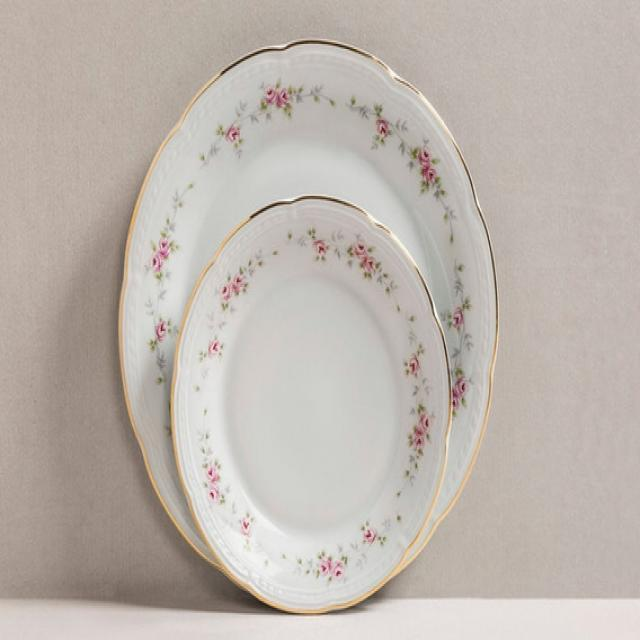ceramic plate: (96, 27, 550, 640)
